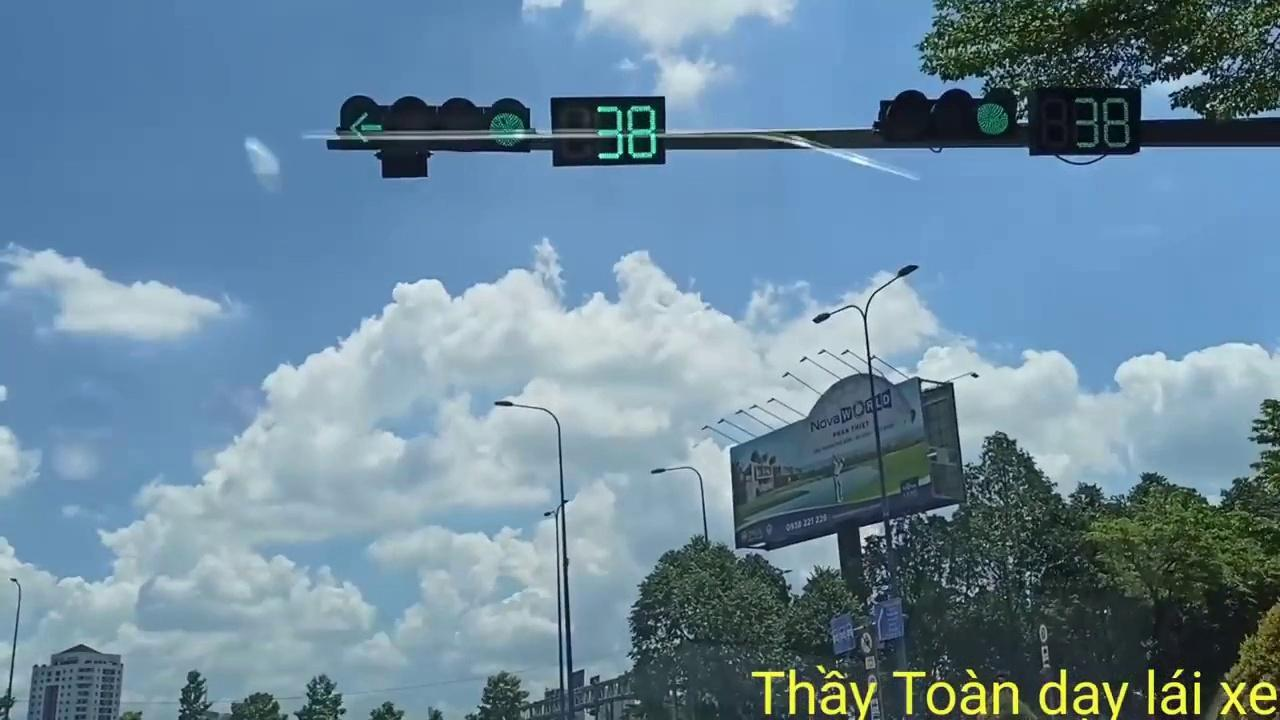Chỉ hướng đường: (874, 600, 906, 640)
Cấm xe máy: (859, 630, 875, 656)
Làn đường cho từng xe: (828, 614, 856, 654)
